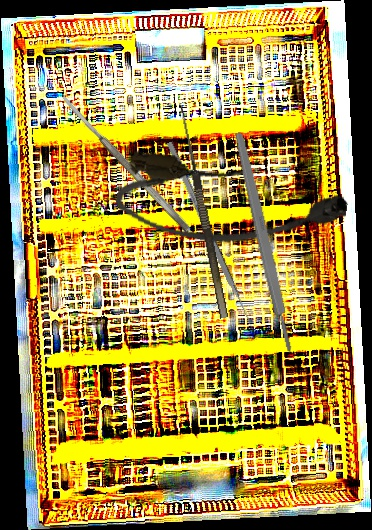Cannula: (112, 147, 351, 263)
Hook Surgical: (167, 107, 229, 321)
Pusher: (166, 141, 258, 336)
Scalpel Handle: (232, 130, 296, 355)
Spatula Surgical: (58, 91, 193, 235)
